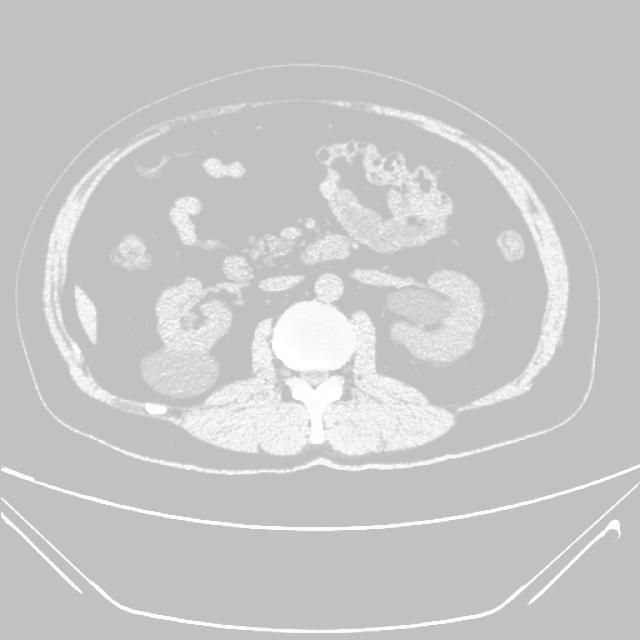cysts: (36, 89, 576, 469)
